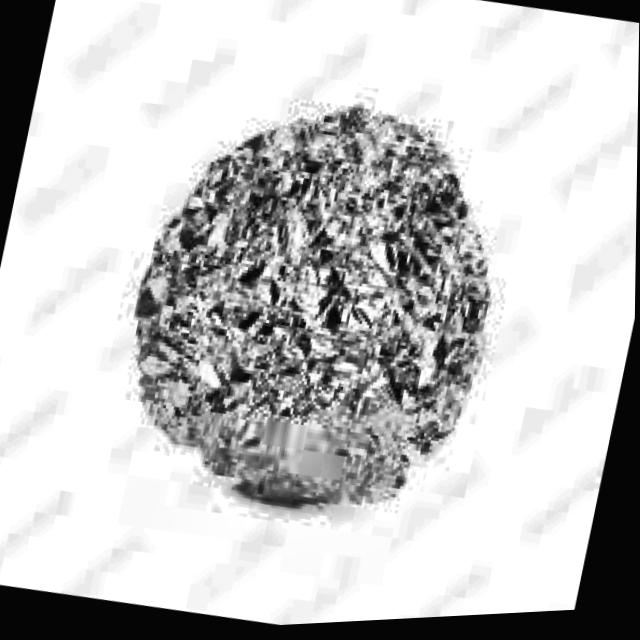Foil: (78, 59, 549, 573)
